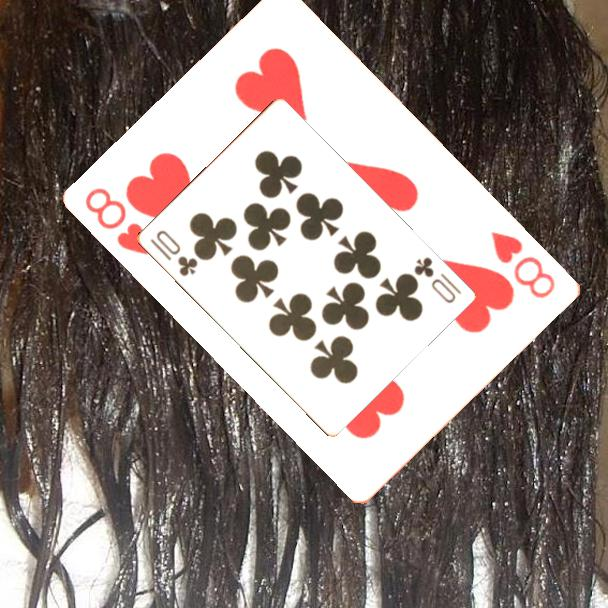c10: (410, 253, 464, 306), (146, 227, 200, 279)
h08: (488, 227, 559, 302), (82, 184, 153, 259)
